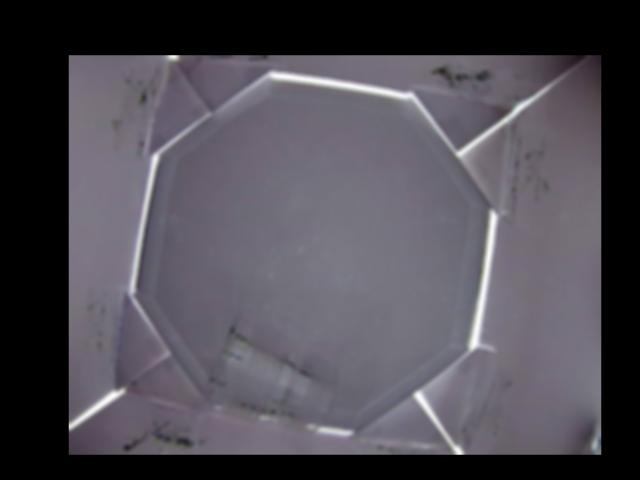Cup: (206, 314, 337, 432)
